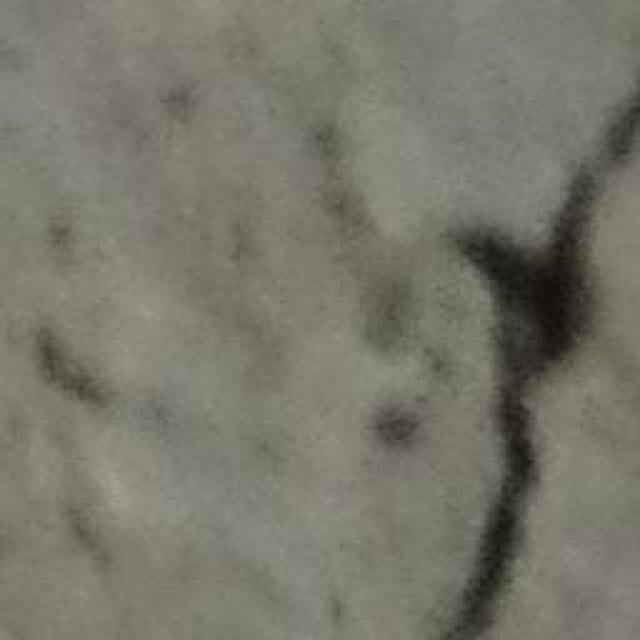Diagonal: (389, 43, 640, 640)
